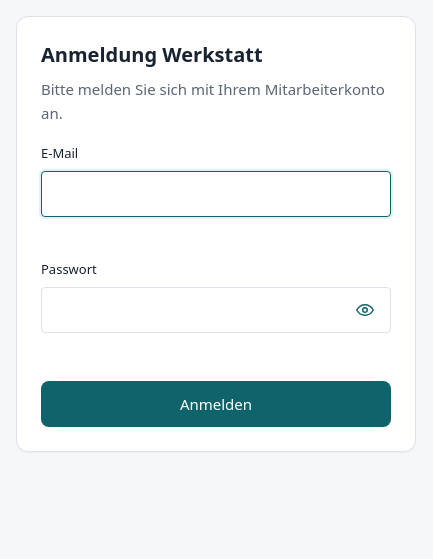
Test: LoginPage › shows a generic error message on wrong credentials
This screenshot has width=433, height=559.
Type "wrong@example.com" into the field labelled "E-Mail".
click(216, 194); type("wrong@example.com")  # box [41,171,391,217]
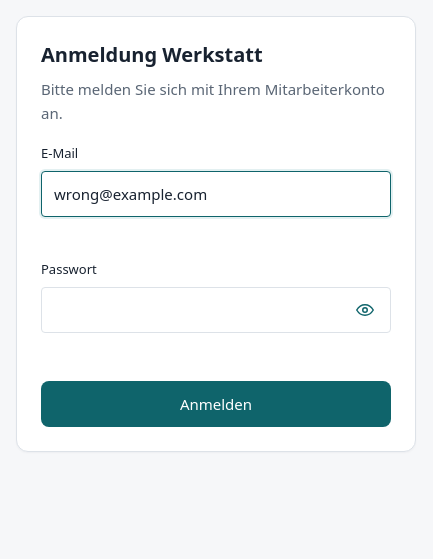
Type "wrong" into the password field labelled "Passwort".
click(216, 310); type("wrong")  # box [41,287,391,333]
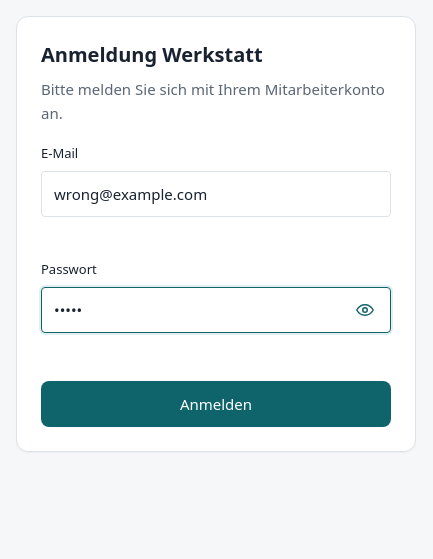
Click the button "Anmelden".
click(216, 404)  # box [41,381,391,427]
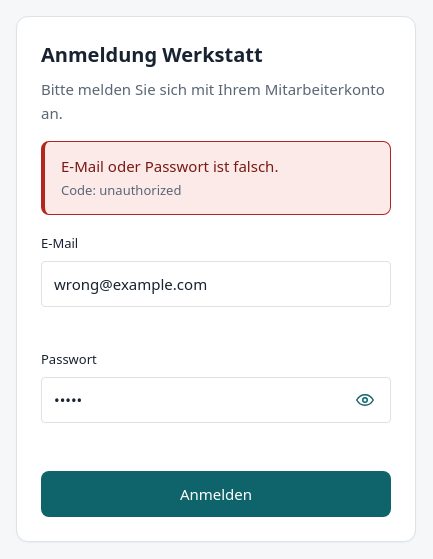
Expected: the message shows "E-Mail oder Passwort ist falsch.", [61,156,278,176]
